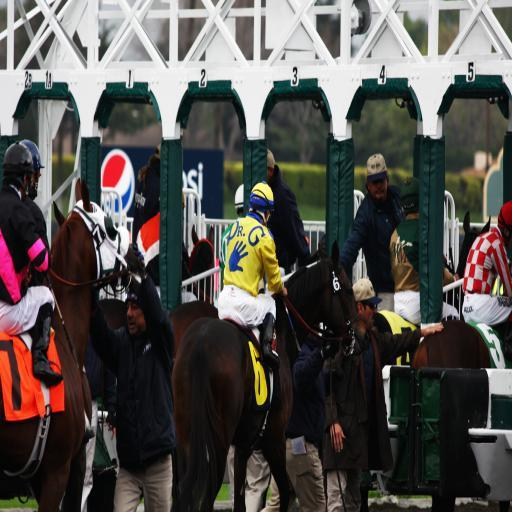Horse: (0, 178, 512, 512)
